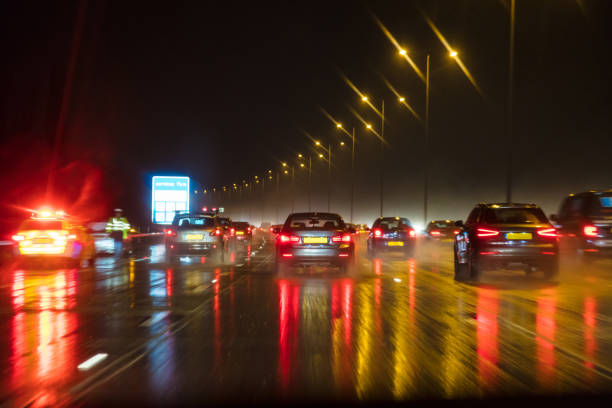car: (452, 203, 555, 285), (277, 212, 349, 273), (560, 193, 612, 266), (18, 217, 92, 264), (168, 213, 222, 261), (367, 216, 414, 258), (427, 219, 460, 249), (231, 219, 251, 241), (260, 221, 271, 235)
